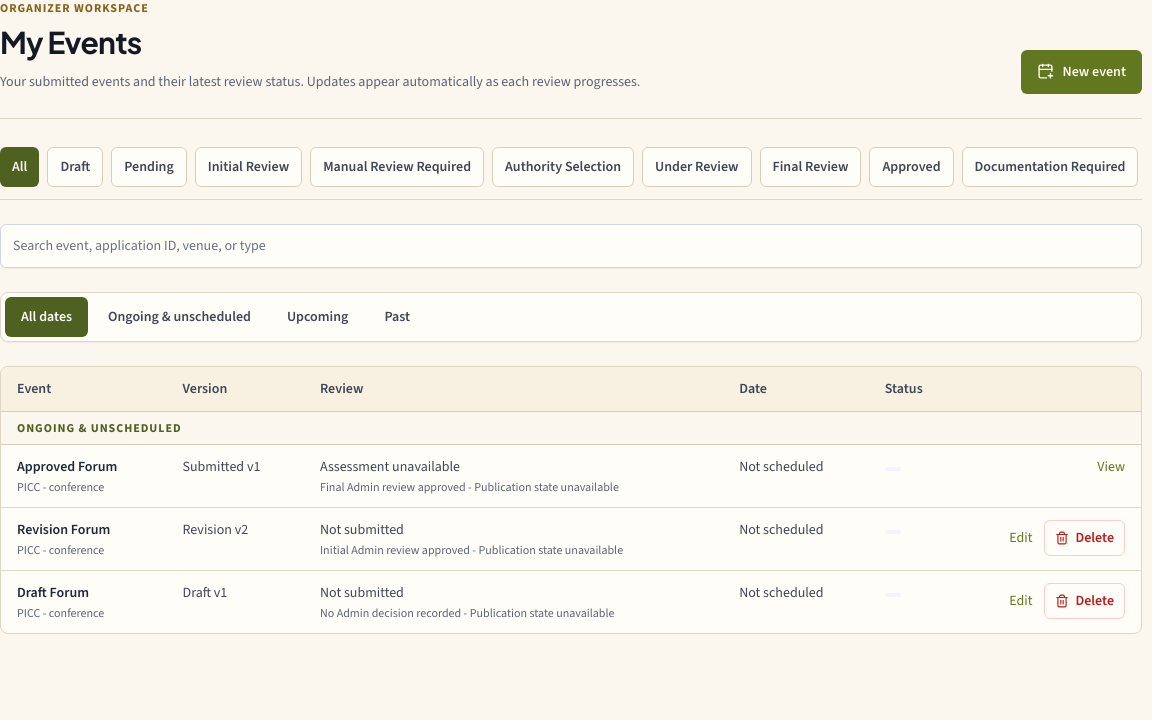
Scenario: MyEvents › shows Delete only for Draft applications and requires the exact confirmation text
The width and height of the screenshot is (1152, 720).
Step 1. Click the button with aria-label "Delete Draft Forum" → (1085, 600), box [1044,582,1125,618]
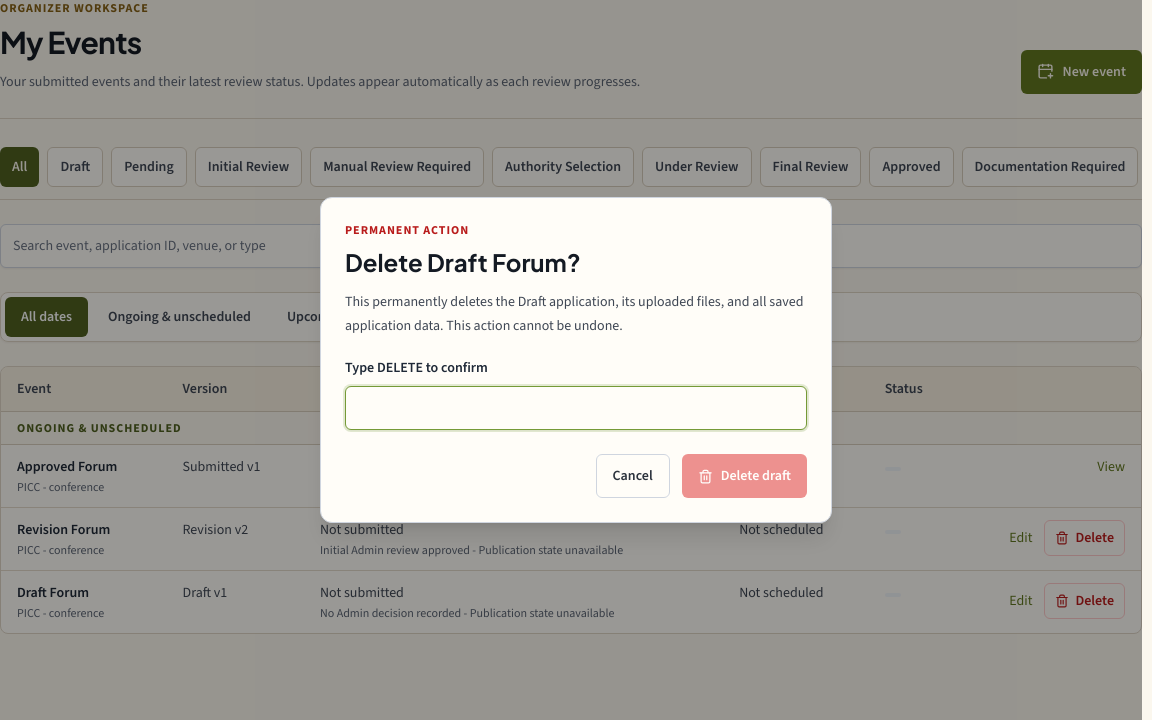
Expected: the button "Delete draft" is disabled, [682,454,807,498]
Step 2. Type "delete" into the field labelled "Type DELETE to confirm" → (576, 408), box [345,386,807,430]
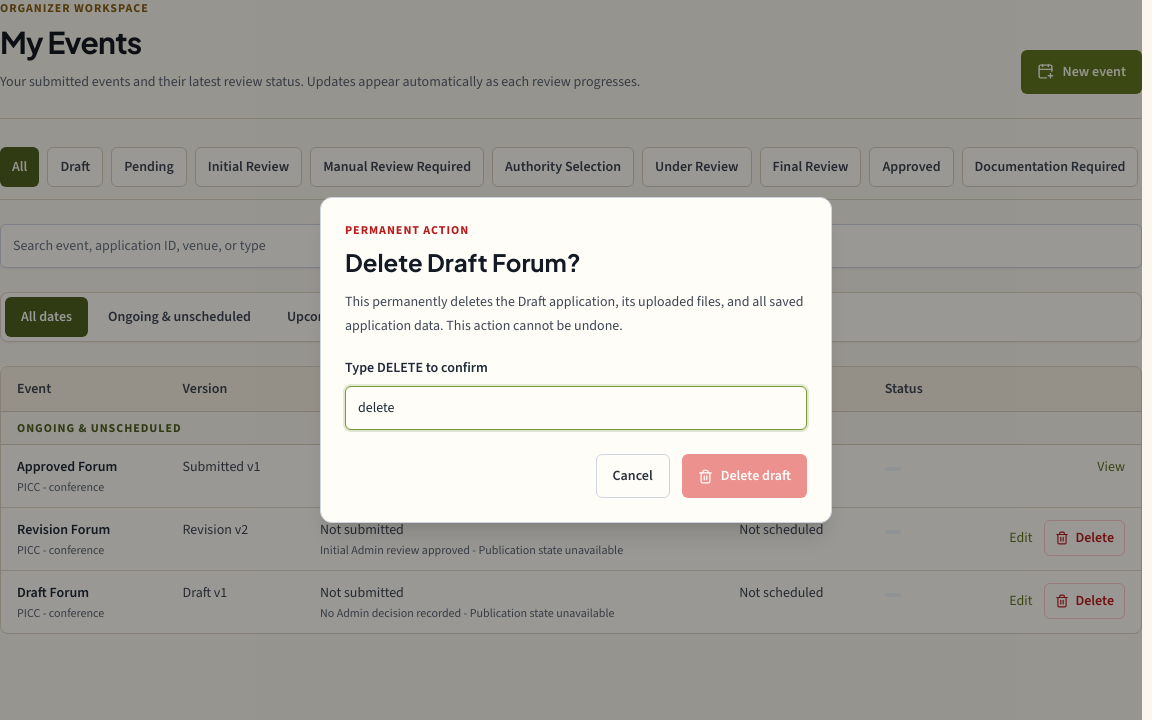
Expected: the button "Delete draft" is disabled, [682,454,807,498]
Step 3. Replace the text in the field labelled "Type DELETE to confirm" with "DELETE" → (576, 408), box [345,386,807,430]
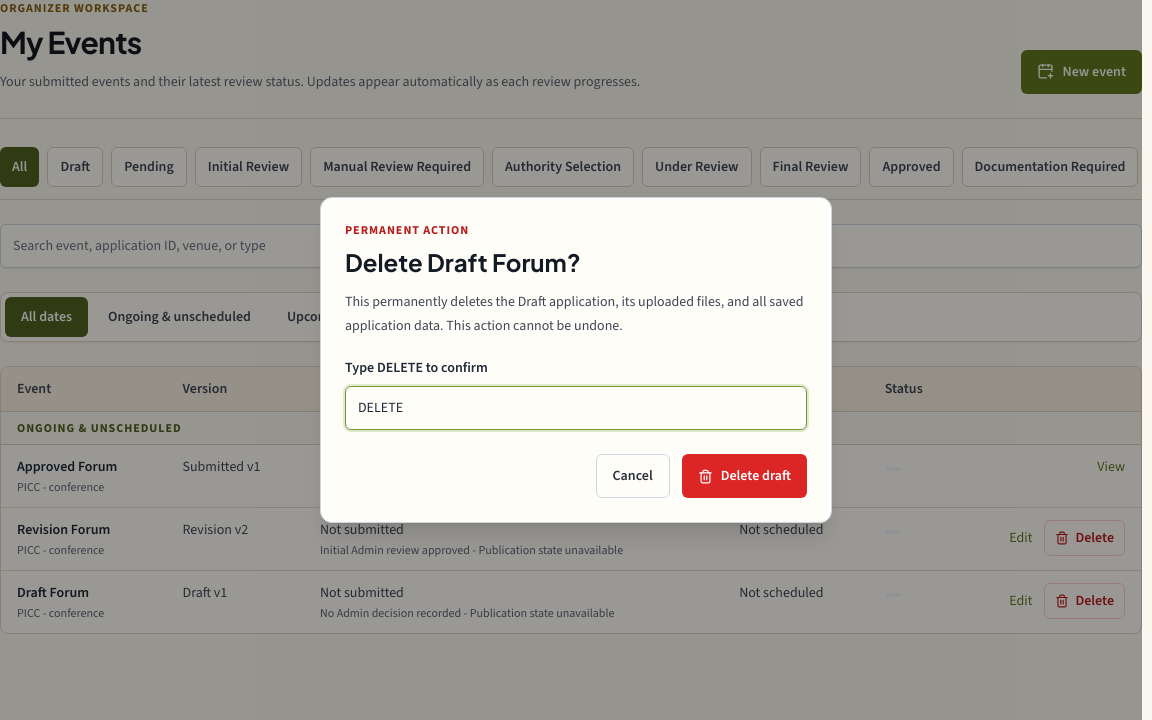
Expected: the button "Delete draft" is enabled, [682,454,807,498]
